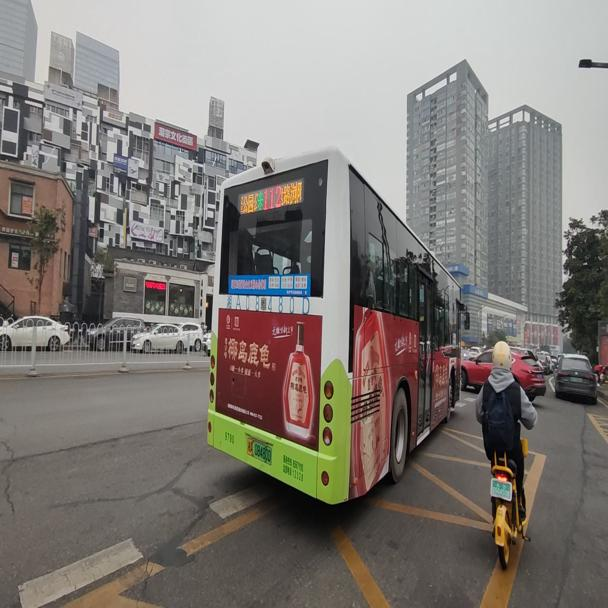bus: (205, 141, 471, 506)
screen: (261, 182, 280, 211)
